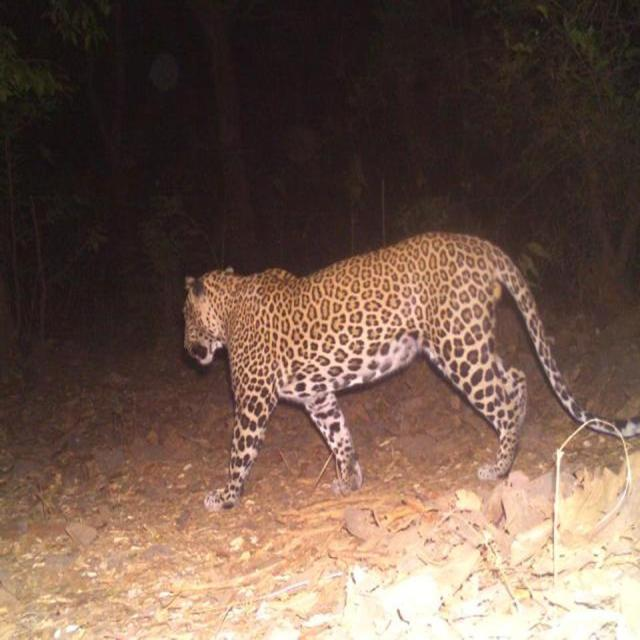Leopard: (185, 228, 640, 510)
